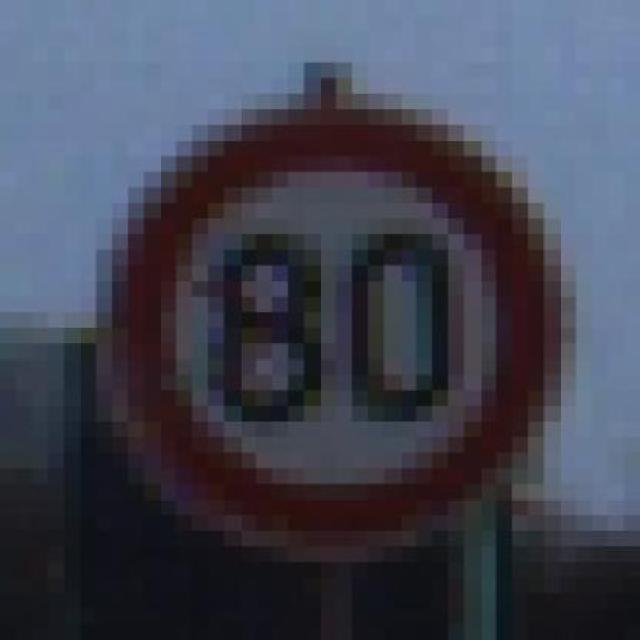forb_speed_over_80: (111, 119, 548, 548)
